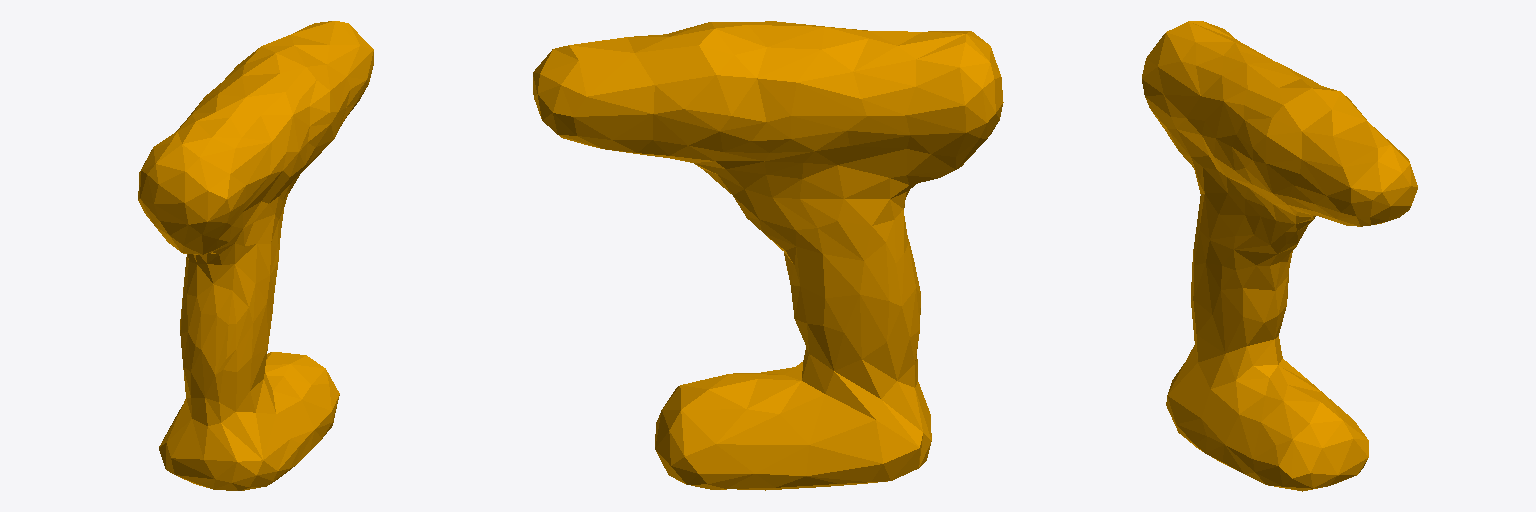
URDF robot description (power_drill):
<?xml version="1.0"?>
<robot name="power_drill">
  <link name="base_link">
    <contact>
      <lateral_friction value="1.0"/>
      <rolling_friction value="0.0"/>
      <contact_cfm value="0.0"/>
      <contact_erp value="1.0"/>
    </contact>
    <inertial>
      <mass value="0.443228080475"/>
      <inertia ixx="1" ixy="0" ixz="0" iyy="1" iyz="0" izz="1"/>
    </inertial>
    <visual>
      <geometry>
        <mesh filename="power_drill_visual.obj"/>
      </geometry>
    </visual>
    <collision>
      <geometry>
        <mesh filename="power_drill_collision.obj"/>
      </geometry>
    </collision>
  </link>
</robot>

--- Facts derived from the render (not from the file) ---
3 views of the same robot in one strip: view 1: azimuth 30°, elevation 25°; view 2: azimuth 150°, elevation 25°; view 3: azimuth 270°, elevation 25° (orthographic).
Model power_drill with 1 links and 0 joints (none), rooted at base_link, posed every joint at zero.
Links seen in each view (by area): view 1: base_link; view 2: base_link; view 3: base_link.
Boxes of the visible links, left/top/right/bottom form: base_link: left=138, top=21, right=373, bottom=490; base_link: left=533, top=21, right=1003, bottom=490; base_link: left=1142, top=21, right=1417, bottom=491.
Bounding box of the posed robot: 0.07 × 0.0526 × 0.0832 m (x, y, z).
1 mesh visuals loaded from 1 distinct referenced files (1 OBJ).